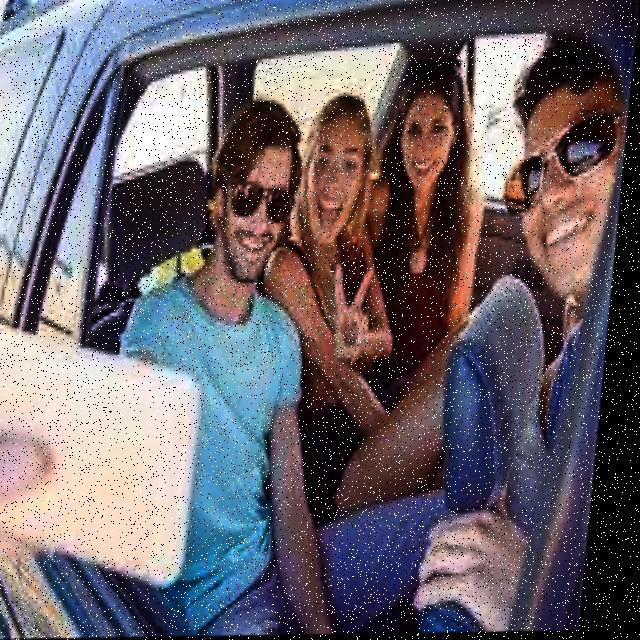noSeatbelt: (131, 259, 324, 614), (353, 150, 514, 390)
